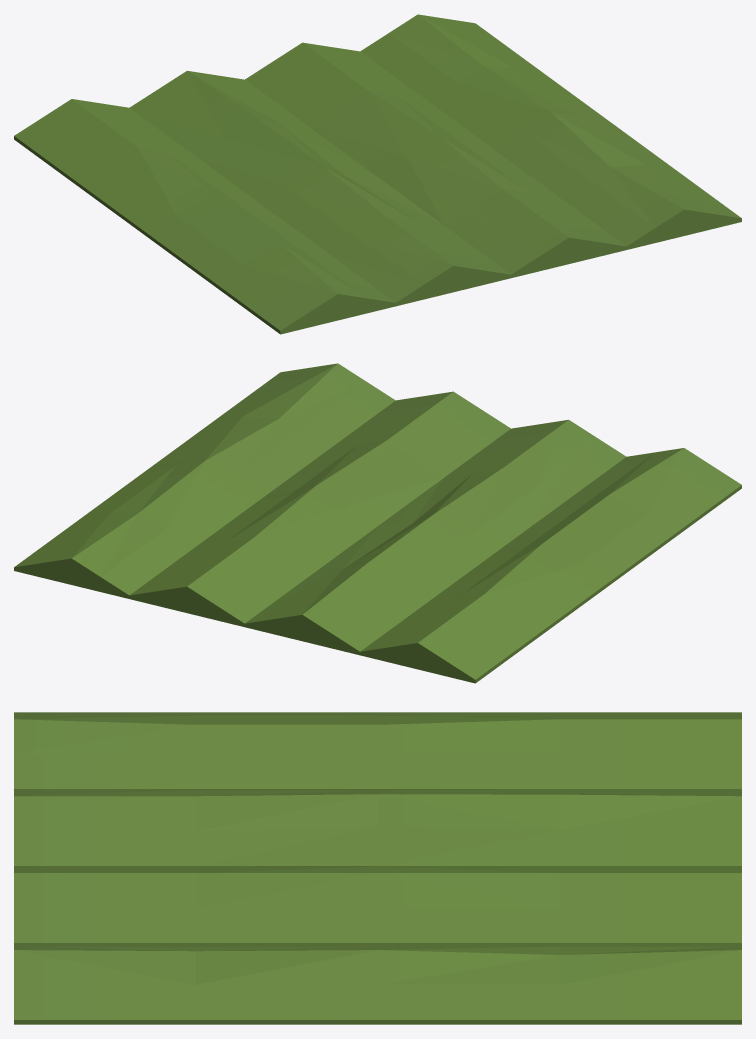
File: Mud_01.fbx
3 renders of one model, top to bottom at view 1: azimuth 30°, elevation 25°; view 2: azimuth 150°, elevation 25°; view 3: azimuth 270°, elevation 25°, orthographic. The views are drawn at different scales.
Visible parts, largest first — view 1: Mud_01; view 2: Mud_01; view 3: Mud_01.
Part boxes in pixels (x1=…): Mud_01: x1=14, y1=14, x2=741, y2=334; Mud_01: x1=14, y1=363, x2=741, y2=683; Mud_01: x1=14, y1=712, x2=741, y2=1024.
Size of the model in its own units: 4 by 0.2399 by 4.
